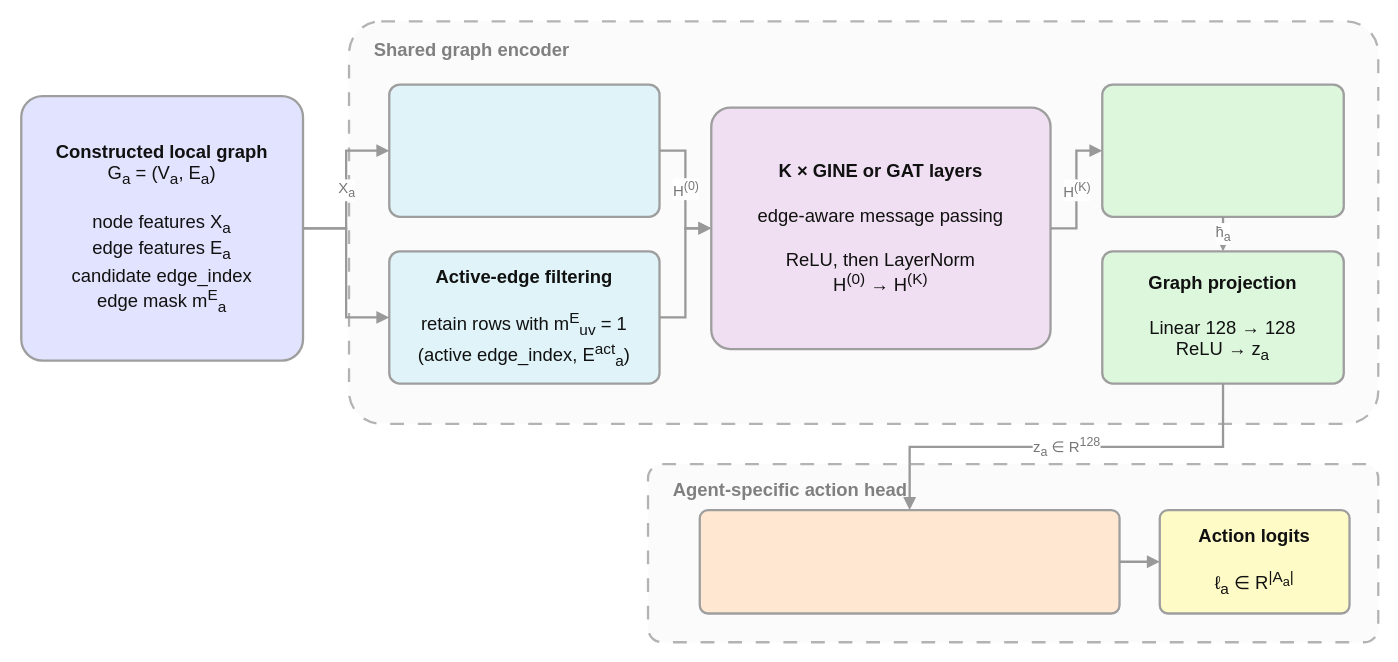
Image size: 1398x662. Some labels were removed from this diagram. Each missing label, with the centre of its shape:
Actor MLP 2 × [Linear 128 → 128 + ReLU] Linear 128 → |A a |: the point at 909,561
Mean readout h̄ a = mean i∈V a h i (K): the point at 1222,150
Node projection Linear d v → 128 ReLU, then LayerNorm: the point at 524,150
